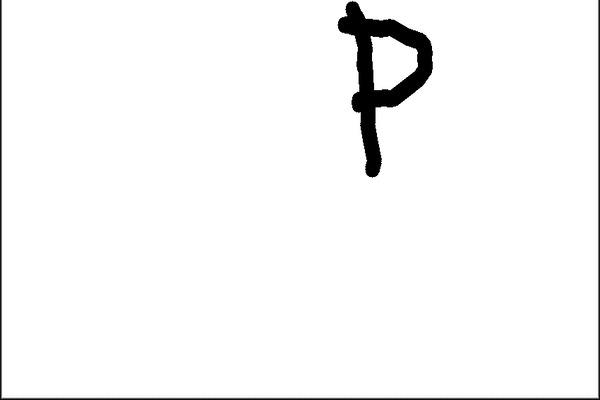P: (317, 0, 456, 190)
